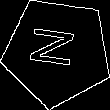N_E: (30, 28, 85, 76)
